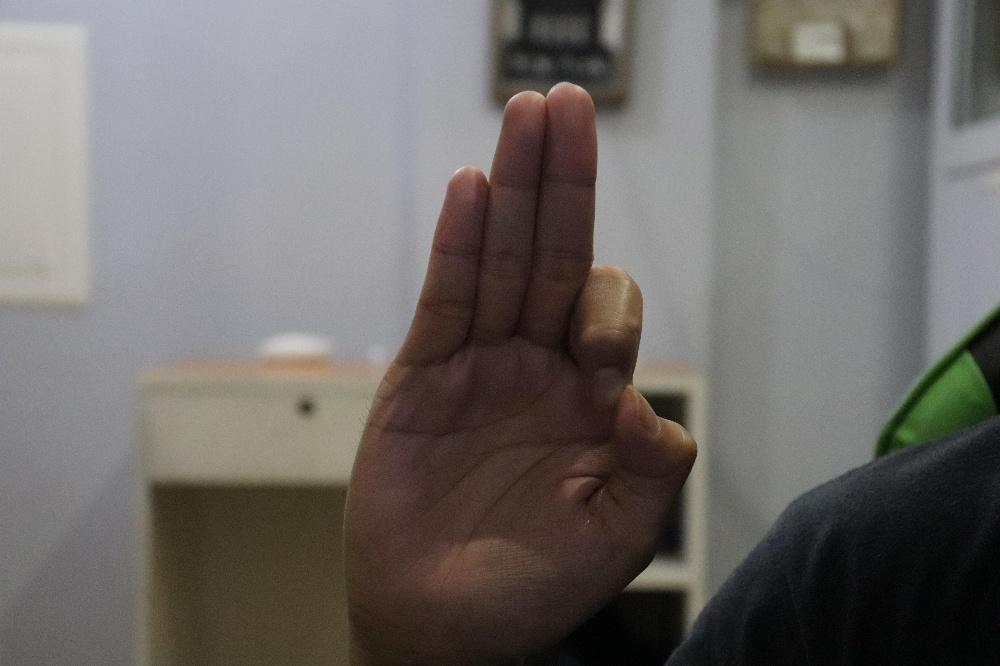f: (340, 78, 697, 665)
